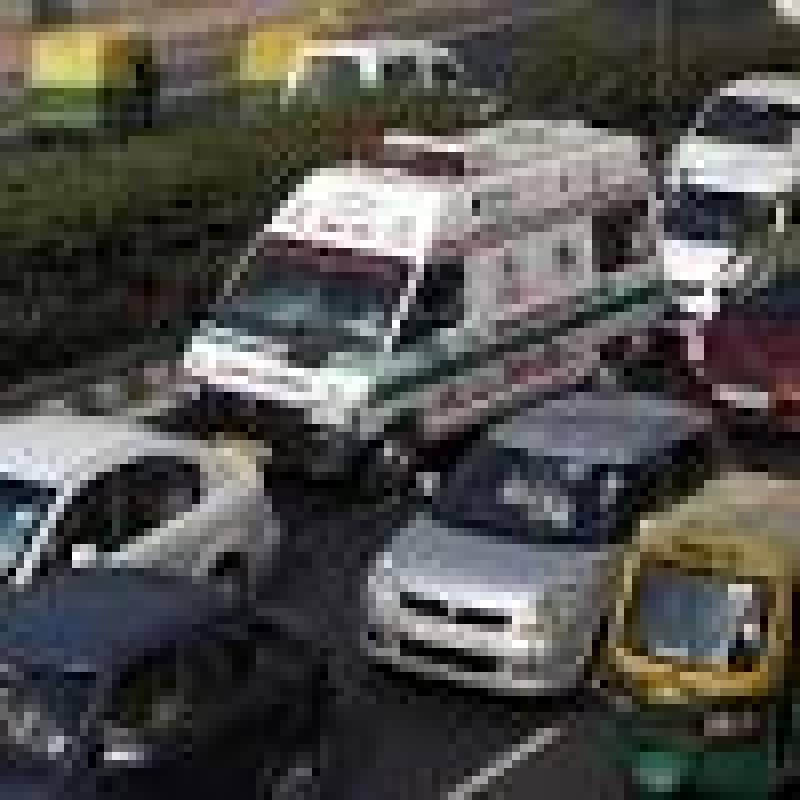ambulance: (178, 106, 661, 488)
car: (340, 398, 720, 686), (1, 386, 260, 628)
